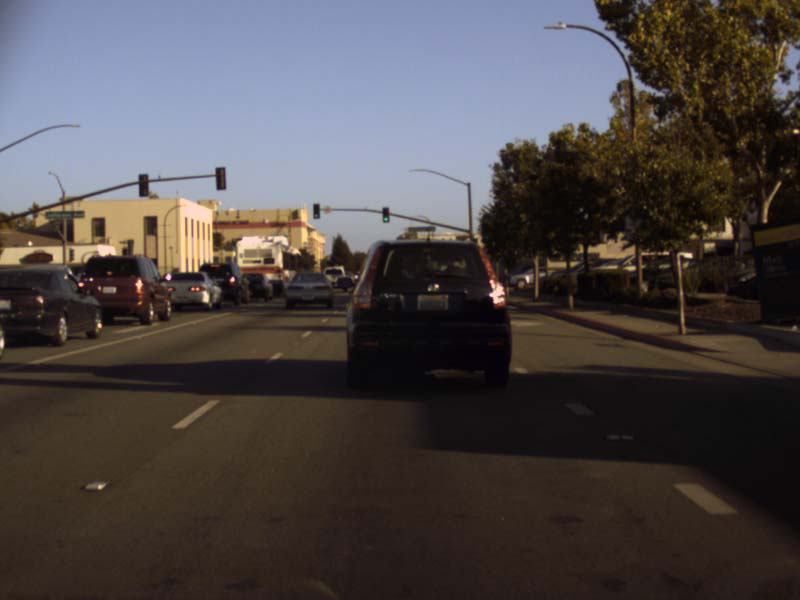Green: (383, 207, 389, 222), (313, 203, 319, 217)
